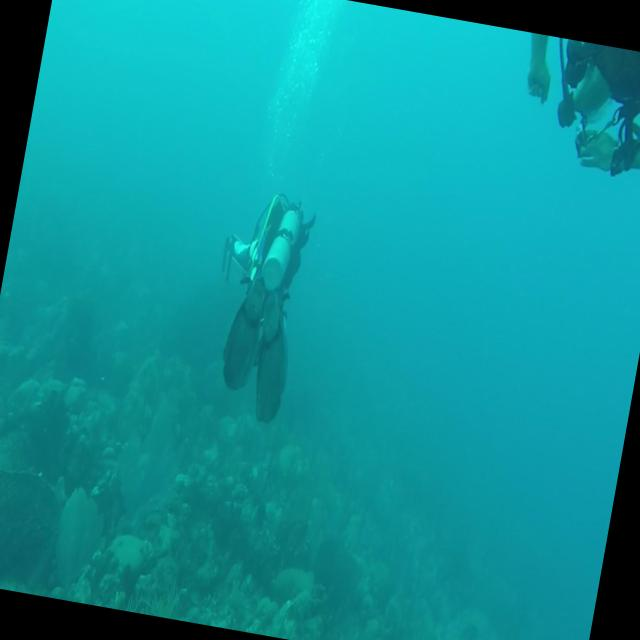human: (195, 183, 320, 426), (505, 31, 640, 186)
